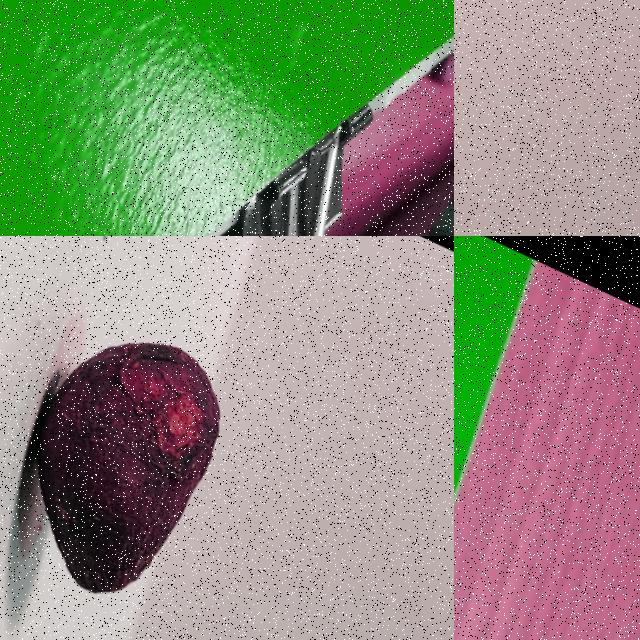Fine_cocoabeans: (0, 249, 280, 639), (454, 236, 536, 639)
